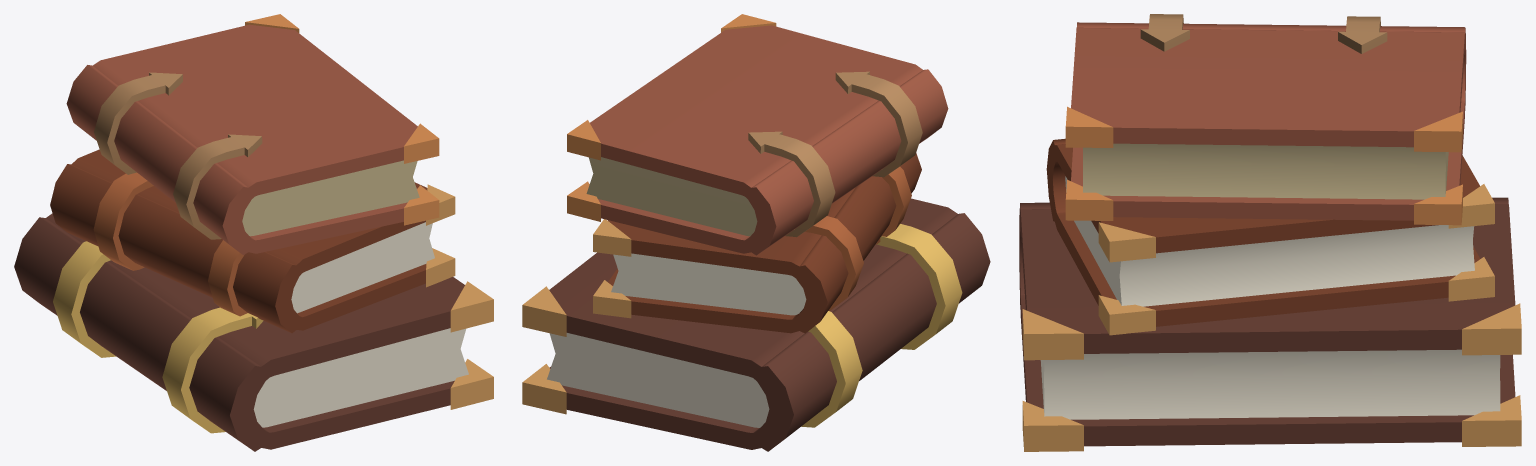
File: Book_J.fbx
3 renders of one model, left to right at view 1: azimuth 30°, elevation 25°; view 2: azimuth 150°, elevation 25°; view 3: azimuth 270°, elevation 25°, orthographic. The views are drawn at different scales.
Parts seen in each view (by area): view 1: Book_J; view 2: Book_J; view 3: Book_J.
Part boxes in pixels (left/top/right/bottom): Book_J: left=14, top=14, right=493, bottom=451; Book_J: left=522, top=14, right=990, bottom=451; Book_J: left=1019, top=14, right=1521, bottom=451.
Bounding box in the file's own units: 34.04 × 30.83 × 44.35.
